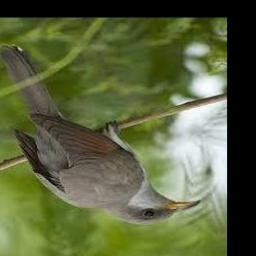Cuckoo: (0, 44, 199, 225)
